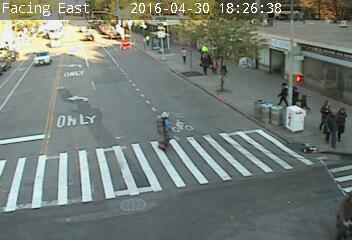neg: (246, 100, 277, 142), (112, 29, 143, 70), (124, 180, 150, 214), (291, 140, 316, 173), (79, 47, 102, 78), (71, 88, 94, 119), (49, 115, 68, 140), (217, 164, 230, 182), (150, 161, 163, 178)
pos: (149, 105, 183, 151), (319, 112, 345, 146), (197, 49, 215, 74), (273, 80, 290, 102), (286, 83, 303, 105), (178, 45, 193, 65), (220, 62, 233, 80), (302, 92, 314, 108), (212, 57, 223, 72)
